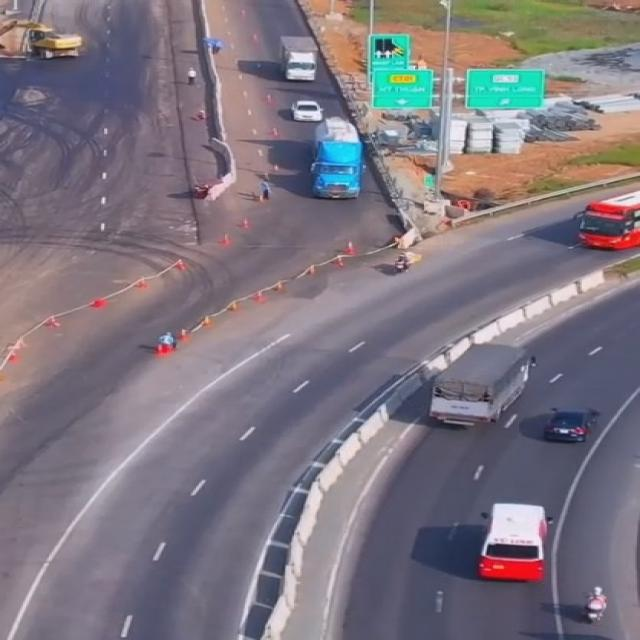bus: (472, 500, 551, 581), (576, 191, 640, 251)
car: (540, 403, 598, 442), (286, 95, 322, 123)
motorbike: (583, 585, 611, 622)
truck: (427, 343, 530, 429), (311, 116, 367, 200), (273, 34, 323, 82)
